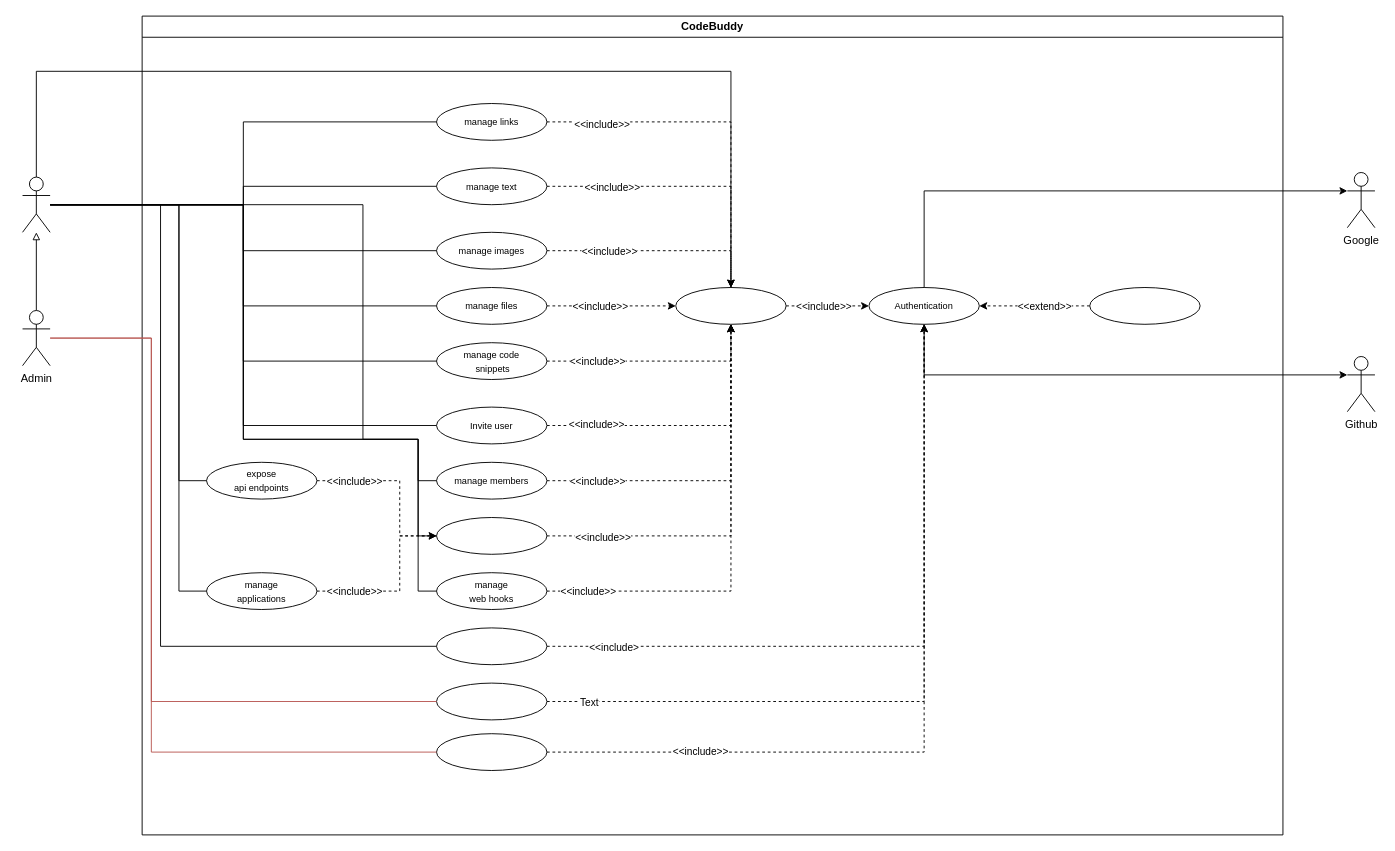
Some shapes in this 1395 by 851 pixel diagram are drawn without their labels. Each missing label, with the centre of its shape:
App settings management: [491,751]
Authentication errors: [1144,305]
create applications: [491,535]
Create Project: [730,305]
manage profile: [491,646]
Member: [36,204]
users management: [491,701]
